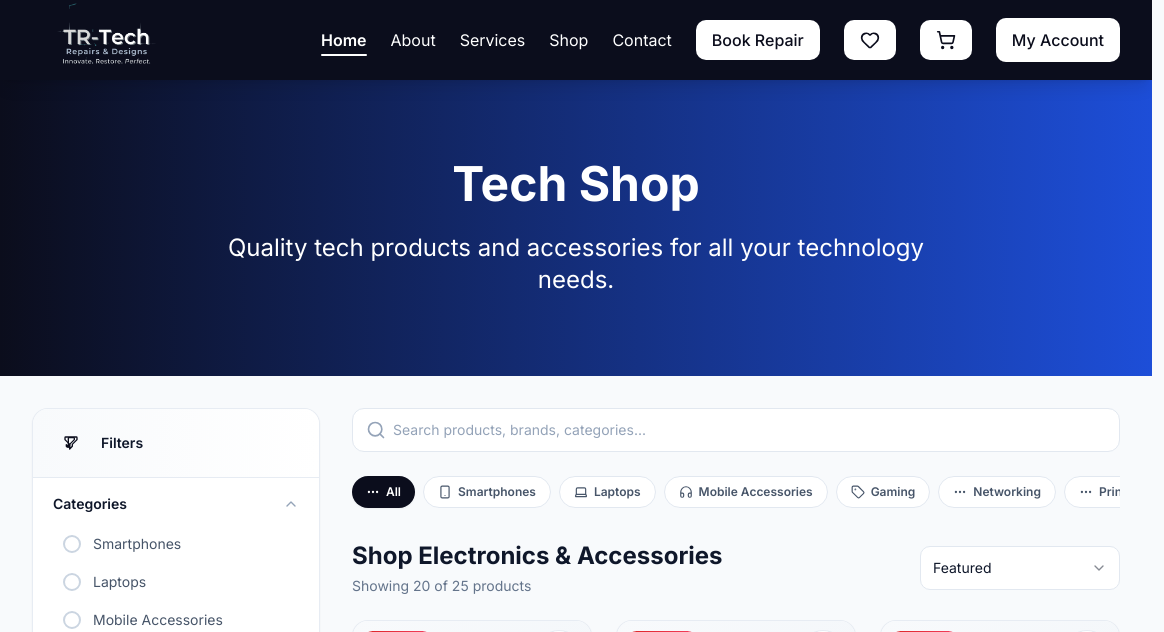
Test: ShopPage — Functional Test Suite › Search bar functionality › shows empty state when search matches nothing
Type "nonexistentproduct12345" into the search field with placeholder "Search products, brands, categories..." at x=736, y=430, box [352,408,1120,452]
(page scrolled)
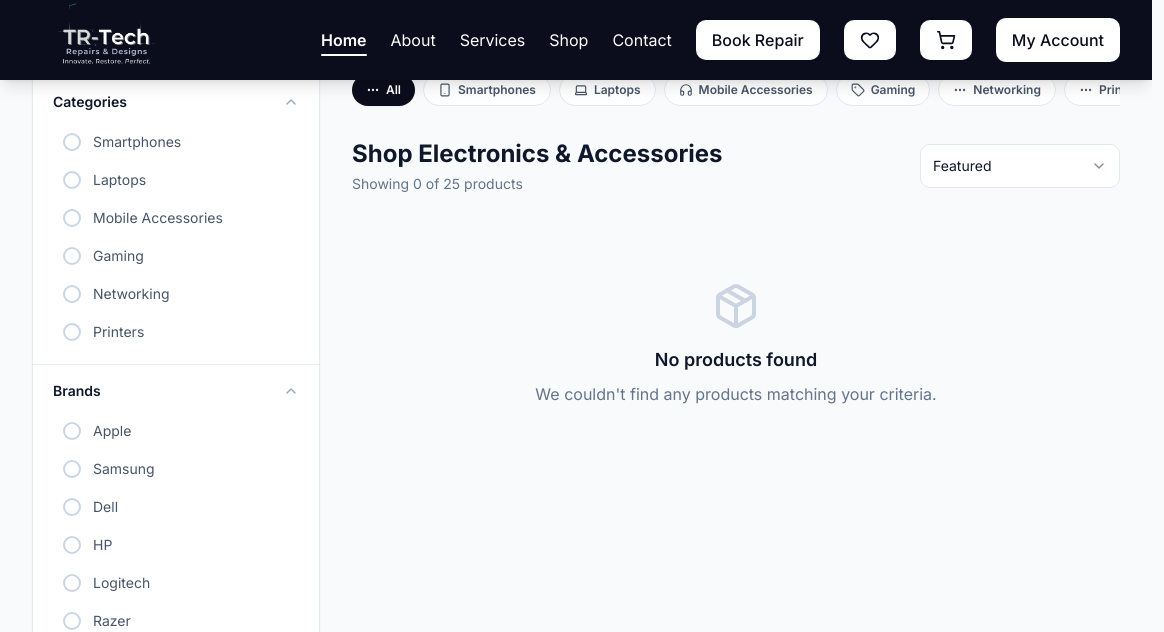
Result: the heading "No products found" is shown at [655,349,817,370]
